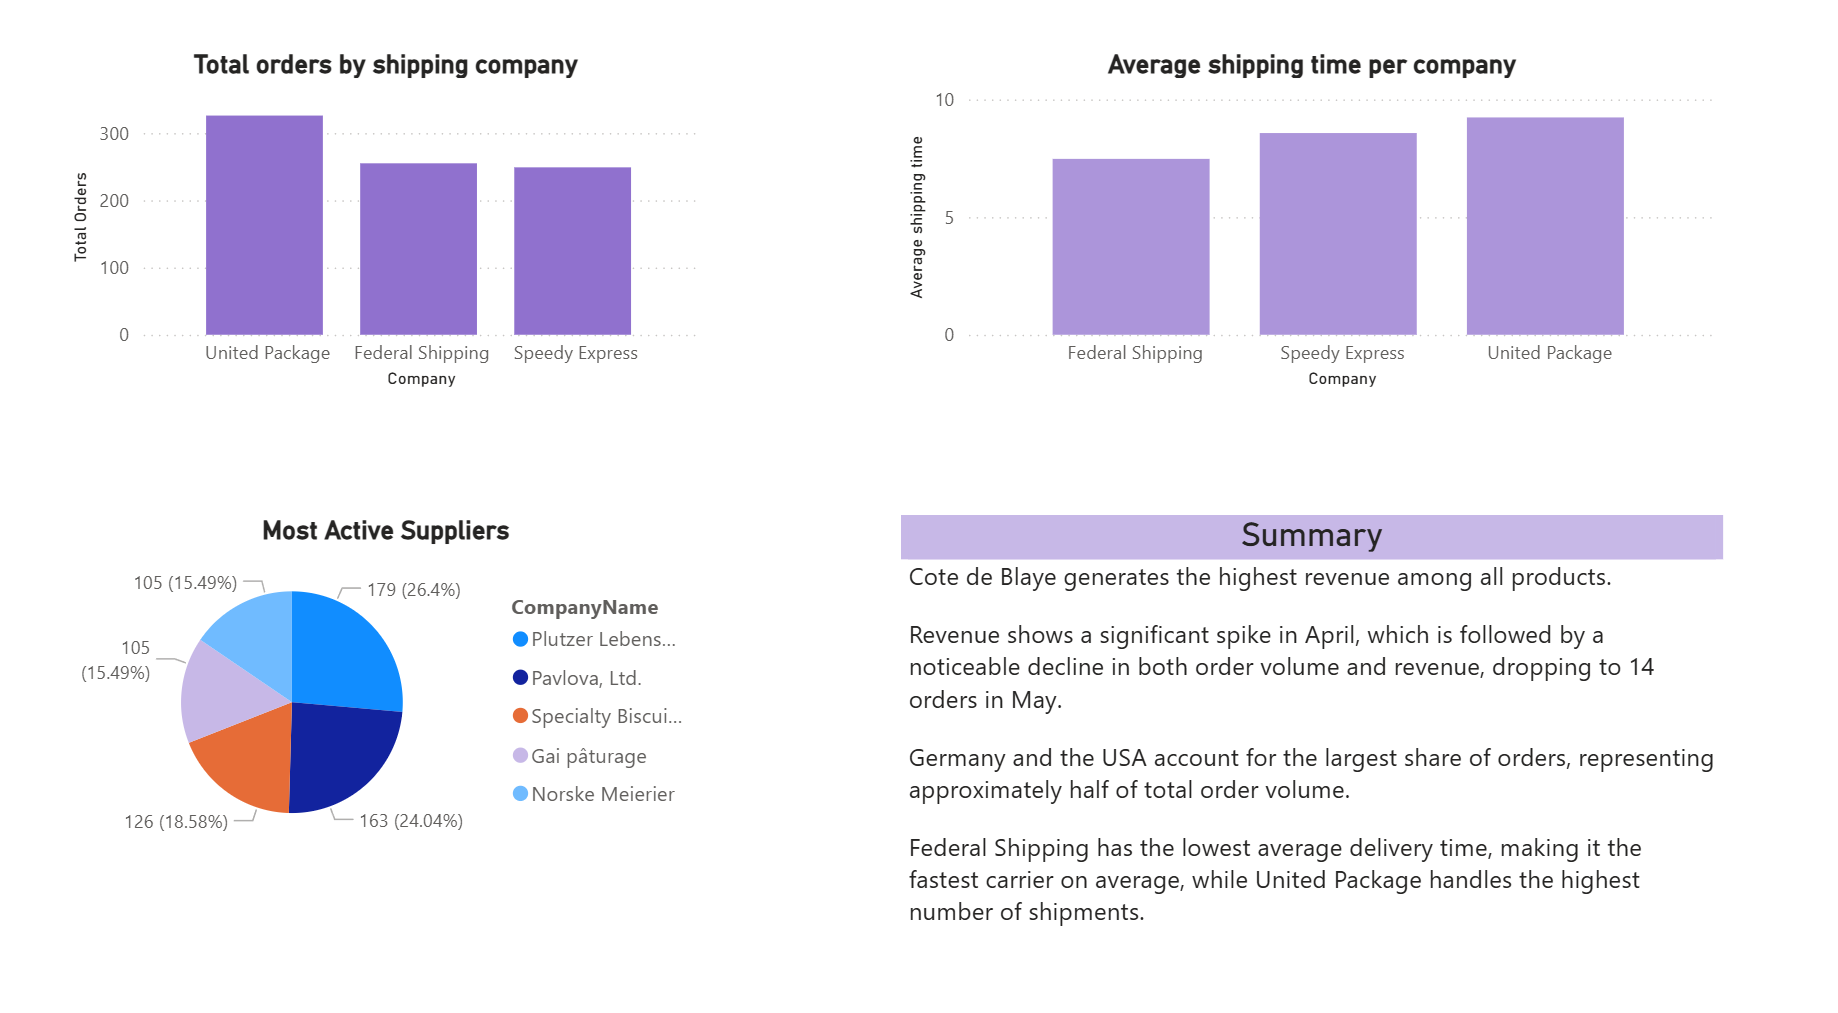

The dashboard page shown, as its layout file describes it:
{"tool":"powerbi","page":{"name":"Page 3","canvas":[1280,720],"ordinal":2},"visuals":[{"type":"columnChart","title":"Total orders by shipping company","fields":{"Category":["Shippers.CompanyName"],"Y":["Categories.Total Orders"]},"box":[92.7,48.7,420,226],"z":0},{"type":"columnChart","title":"Average shipping time per company","fields":{"Category":["Shippers.CompanyName"],"Y":["Suppliers.Avg Shipping Time"]},"box":[640,48.7,538,226],"z":1000},{"type":"pieChart","title":"Most Active Suppliers","fields":{"Category":["Suppliers.CompanyName"],"Y":["CountNonNull(Order_Details.OrderID)"]},"box":[92.7,353.3,420,226],"z":2000},{"type":"textbox","title":"Summary","box":[640,353.3,538,292],"z":3000}]}

Visuals, with their boxes in screenshot pixels (x1, y1, x2, y2), scaled from the page's 1280x720 canvas onto the 1838x1013 screenshot:
"Total orders by shipping company" columnChart: left=133, top=69, right=736, bottom=386
"Average shipping time per company" columnChart: left=919, top=69, right=1692, bottom=386
"Most Active Suppliers" pieChart: left=133, top=497, right=736, bottom=815
"Summary" textbox: left=919, top=497, right=1692, bottom=908
